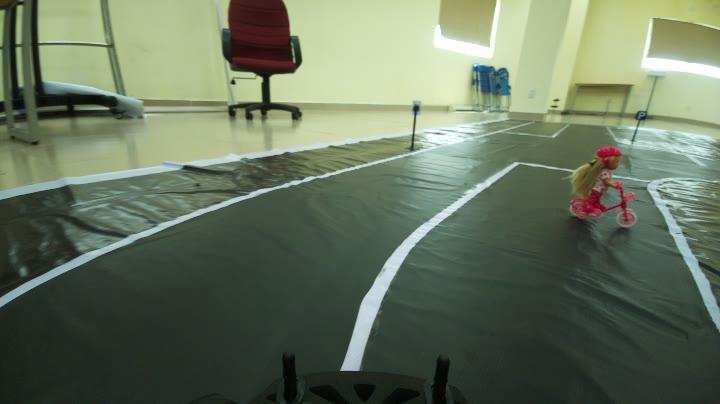pedestrian: (567, 134, 643, 231)
